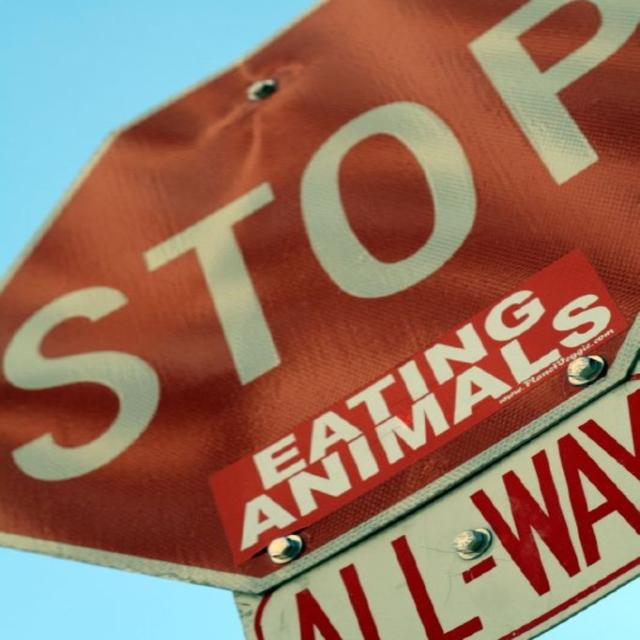Stop-sign: (0, 0, 639, 598)
